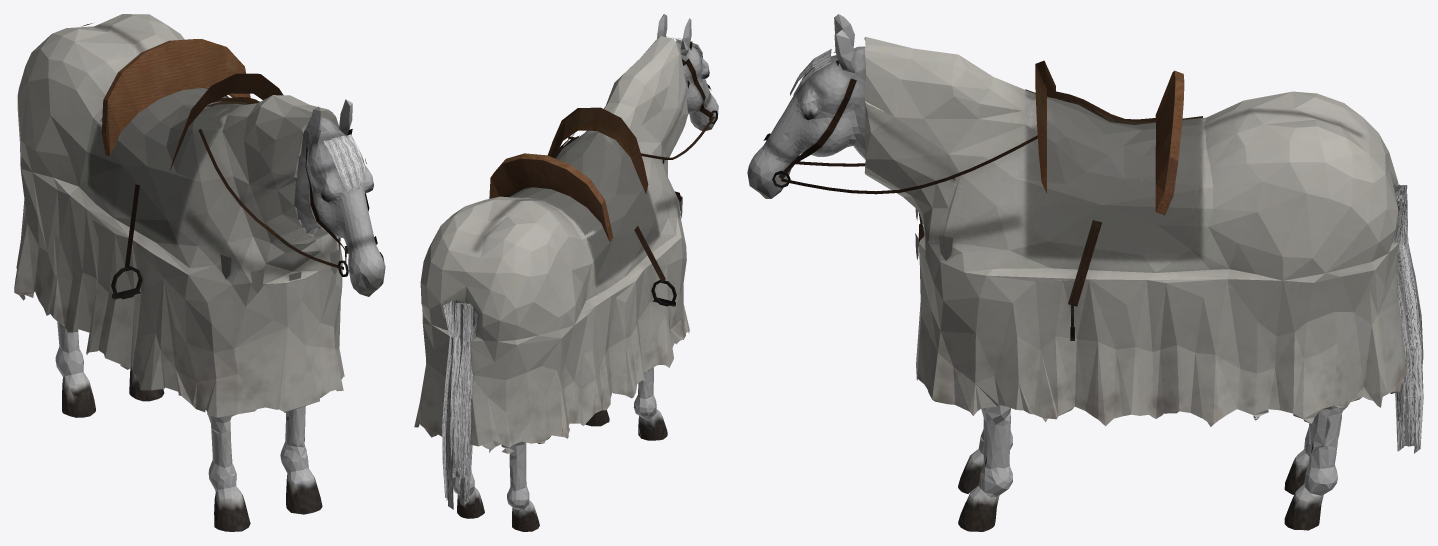
File: horse_destrier.glb
The picture shows the model from 3 angles, left to right: view 1: azimuth 30°, elevation 25°; view 2: azimuth 150°, elevation 25°; view 3: azimuth 270°, elevation 25°; orthographic projection. The views are drawn at different scales.
Visible parts, largest first — view 1: horse_destrier_LOD0; view 2: horse_destrier_LOD0; view 3: horse_destrier_LOD0.
Part boxes in pixels (<box>): horse_destrier_LOD0: <box>14,14,385,531</box>; horse_destrier_LOD0: <box>414,14,718,531</box>; horse_destrier_LOD0: <box>747,14,1423,531</box>.
Size of what is drawn, in the model's own units: 0.9953 by 1.99 by 2.52.
1 material, 1 textured.
